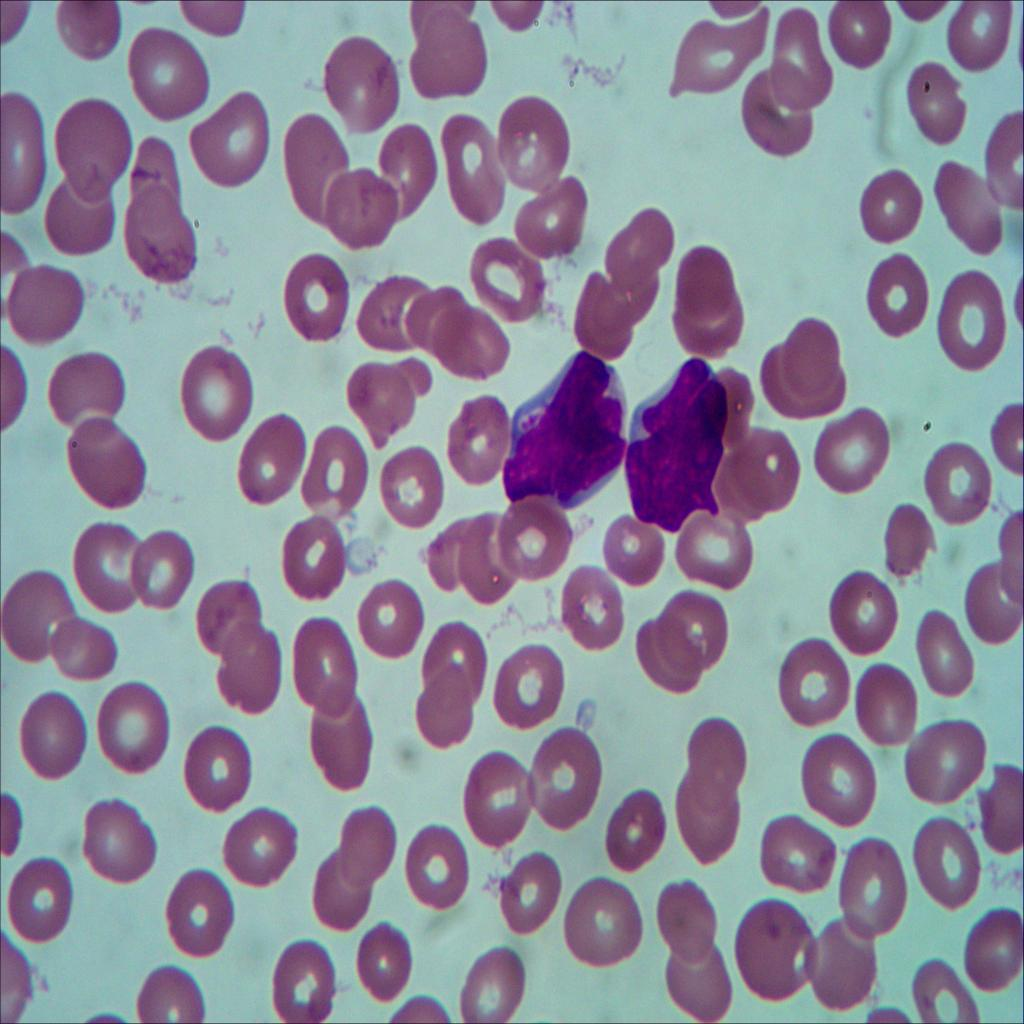Eritrosit: (934, 264, 1016, 388), (796, 728, 886, 832), (1, 853, 83, 963), (488, 636, 570, 745), (300, 686, 376, 802), (805, 403, 893, 503), (726, 904, 818, 999), (213, 798, 305, 892), (830, 834, 912, 939), (442, 116, 515, 233), (53, 98, 132, 206), (122, 24, 209, 122), (230, 403, 305, 515), (899, 817, 984, 915), (122, 181, 196, 293), (523, 723, 601, 829), (770, 320, 848, 424), (559, 878, 649, 968), (890, 56, 972, 154), (848, 164, 930, 262), (666, 10, 760, 95), (44, 339, 128, 433), (405, 10, 489, 104), (12, 690, 92, 788), (719, 422, 799, 520), (286, 612, 356, 723), (278, 111, 347, 223), (740, 67, 816, 168), (72, 510, 142, 618), (852, 664, 936, 754), (908, 730, 993, 818), (749, 812, 838, 896), (931, 156, 1004, 258), (340, 352, 425, 439), (323, 40, 405, 130), (820, 568, 902, 658), (98, 666, 168, 771), (466, 233, 547, 323), (10, 254, 88, 347), (194, 95, 270, 190), (602, 202, 668, 310), (859, 244, 931, 343), (65, 417, 145, 506), (83, 793, 159, 886), (645, 879, 723, 969), (178, 349, 253, 441), (266, 940, 348, 1024), (799, 924, 877, 1012), (678, 508, 754, 598), (39, 173, 119, 258), (6, 569, 76, 666), (171, 722, 249, 809), (403, 812, 470, 913), (775, 631, 849, 722), (496, 847, 566, 943), (464, 742, 526, 850), (277, 252, 350, 343), (652, 945, 736, 1024), (767, 12, 834, 110), (561, 552, 626, 653), (629, 610, 700, 702), (282, 503, 350, 599), (668, 764, 736, 860), (320, 173, 400, 254), (600, 794, 678, 877), (496, 490, 564, 585), (302, 433, 376, 520), (379, 124, 448, 217), (652, 590, 730, 672), (165, 876, 241, 960), (0, 89, 50, 216), (920, 439, 989, 530), (459, 938, 532, 1024), (913, 602, 976, 698), (355, 920, 420, 1013), (454, 517, 517, 612), (396, 274, 462, 364), (128, 132, 186, 234), (435, 304, 511, 381), (899, 956, 985, 1024), (674, 712, 748, 791), (381, 444, 448, 531), (963, 901, 1024, 996), (364, 577, 428, 666), (824, 0, 896, 79), (570, 265, 628, 363), (503, 98, 569, 184), (221, 620, 281, 714), (446, 395, 514, 477), (130, 535, 194, 620), (196, 580, 264, 660), (870, 500, 934, 585), (517, 186, 590, 260), (974, 770, 1024, 870), (42, 622, 120, 685), (942, 0, 1004, 78), (53, 0, 122, 68), (962, 572, 1024, 647), (358, 276, 417, 349), (133, 969, 209, 1024), (609, 512, 663, 589), (429, 507, 477, 587)
Limfoblast: (502, 344, 625, 514), (616, 352, 720, 534)
